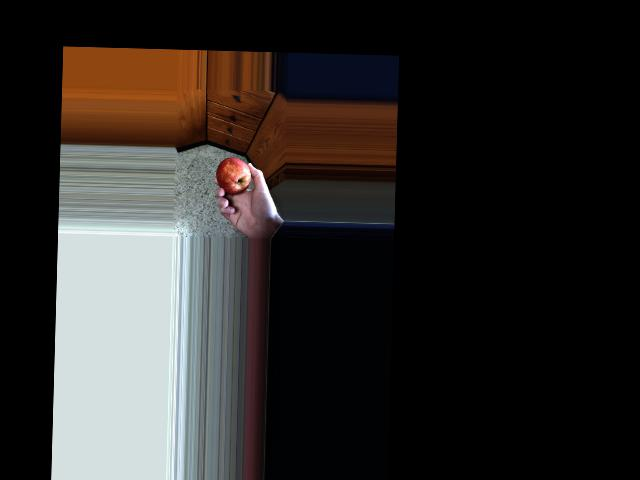apple: (215, 155, 257, 205)
